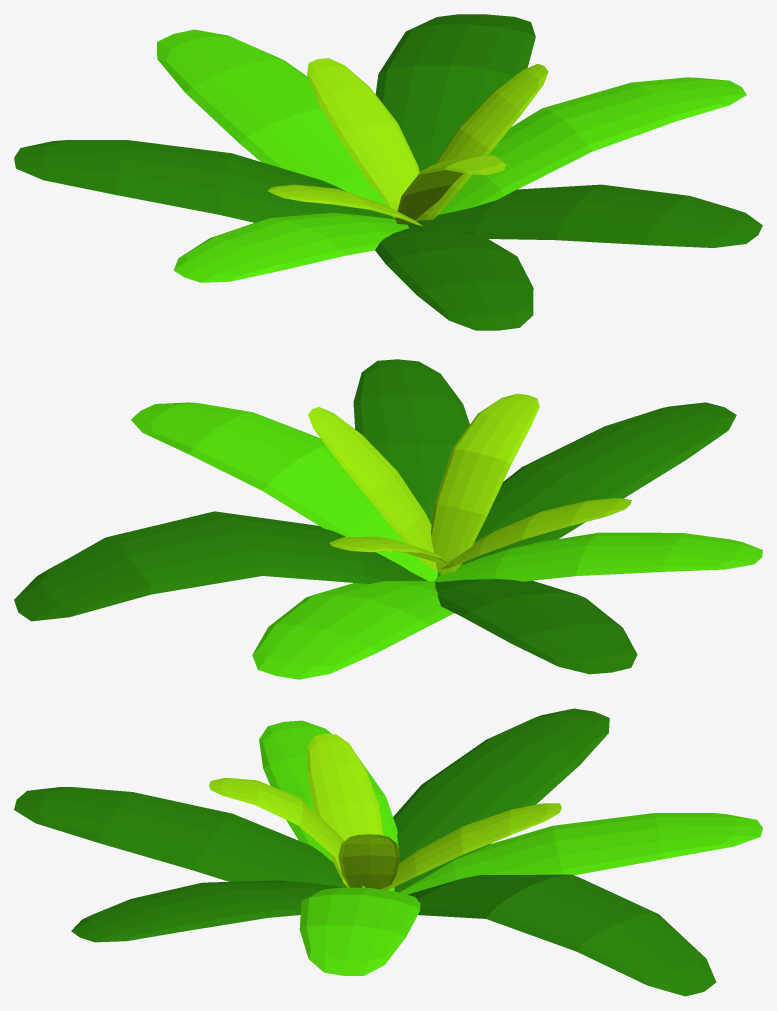
The model's file is G477Fernfbx.fbx.
3 renders of one model, top to bottom at view 1: azimuth 30°, elevation 25°; view 2: azimuth 150°, elevation 25°; view 3: azimuth 270°, elevation 25°, orthographic. The views are drawn at different scales.
Visible parts, largest first — view 1: Fern; view 2: Fern; view 3: Fern.
Boxes of the visible parts, left/top/right/bottom form: Fern: left=14, top=14, right=762, bottom=330; Fern: left=14, top=359, right=762, bottom=679; Fern: left=14, top=708, right=762, bottom=996.
Size of the model in its own units: 101 by 24.27 by 111.
